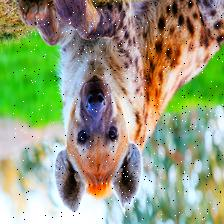hyena: (12, 0, 224, 220)
